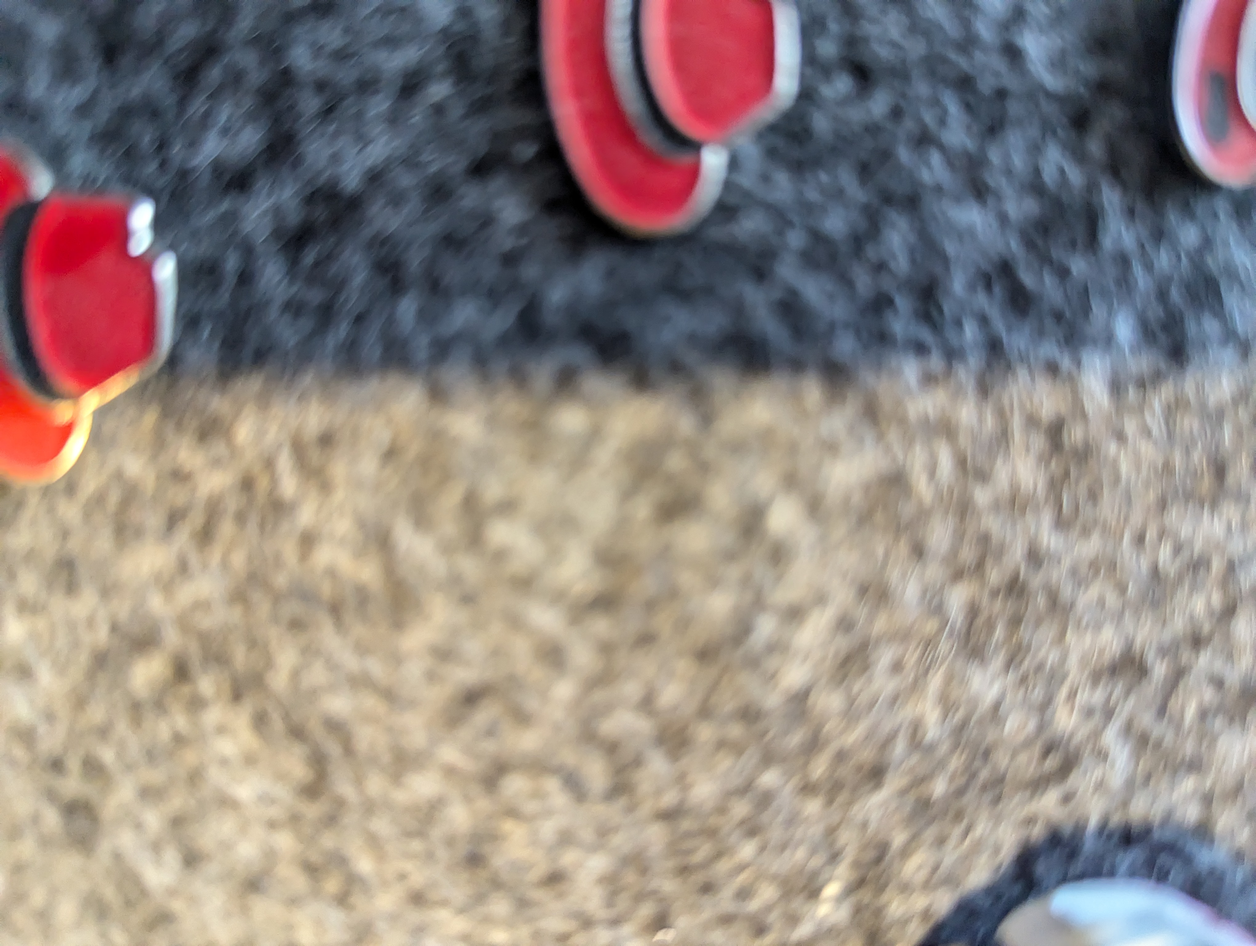Red-Hat: (508, 0, 806, 344), (0, 122, 203, 534)
